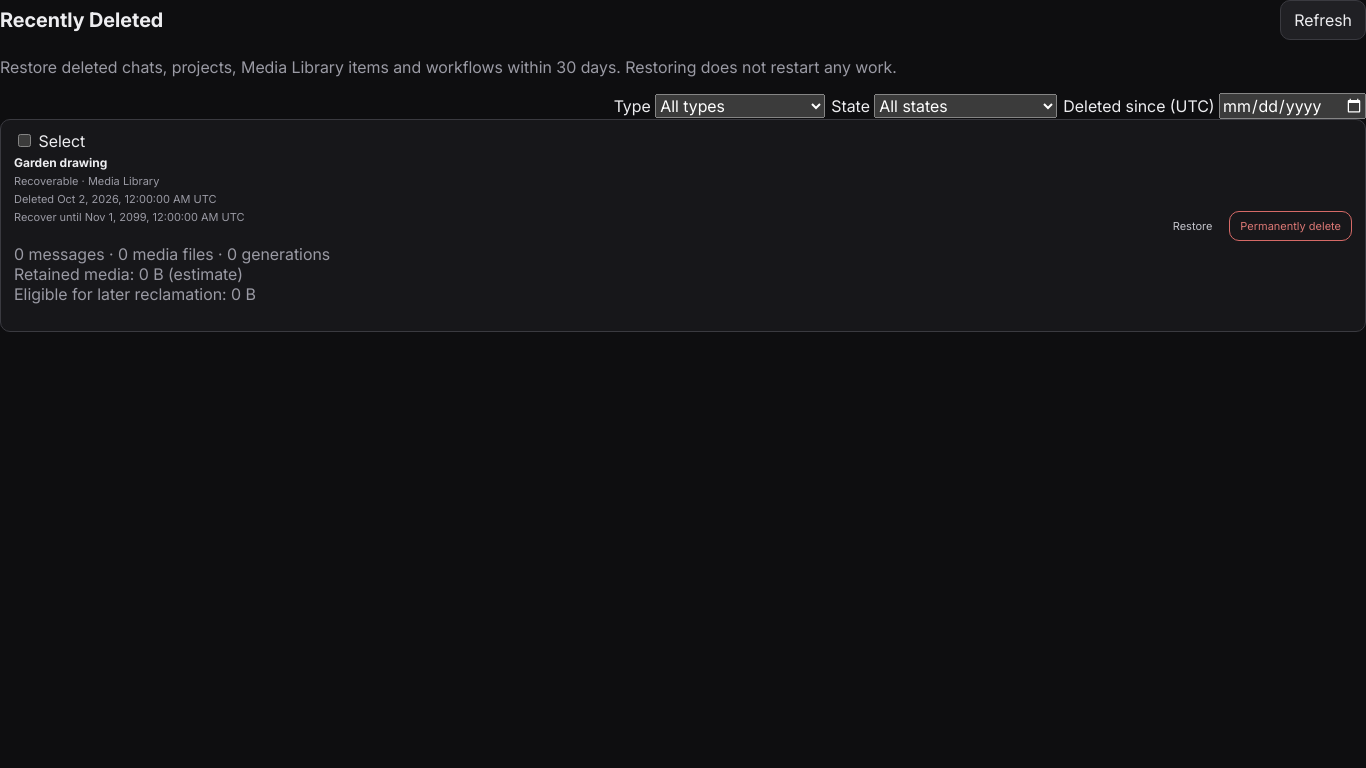
Test: confirms membership removal without promising immediate file deletion
Click the button with aria-label "Permanently delete Garden drawing" at point(1291, 226), box [1229,210,1352,240]
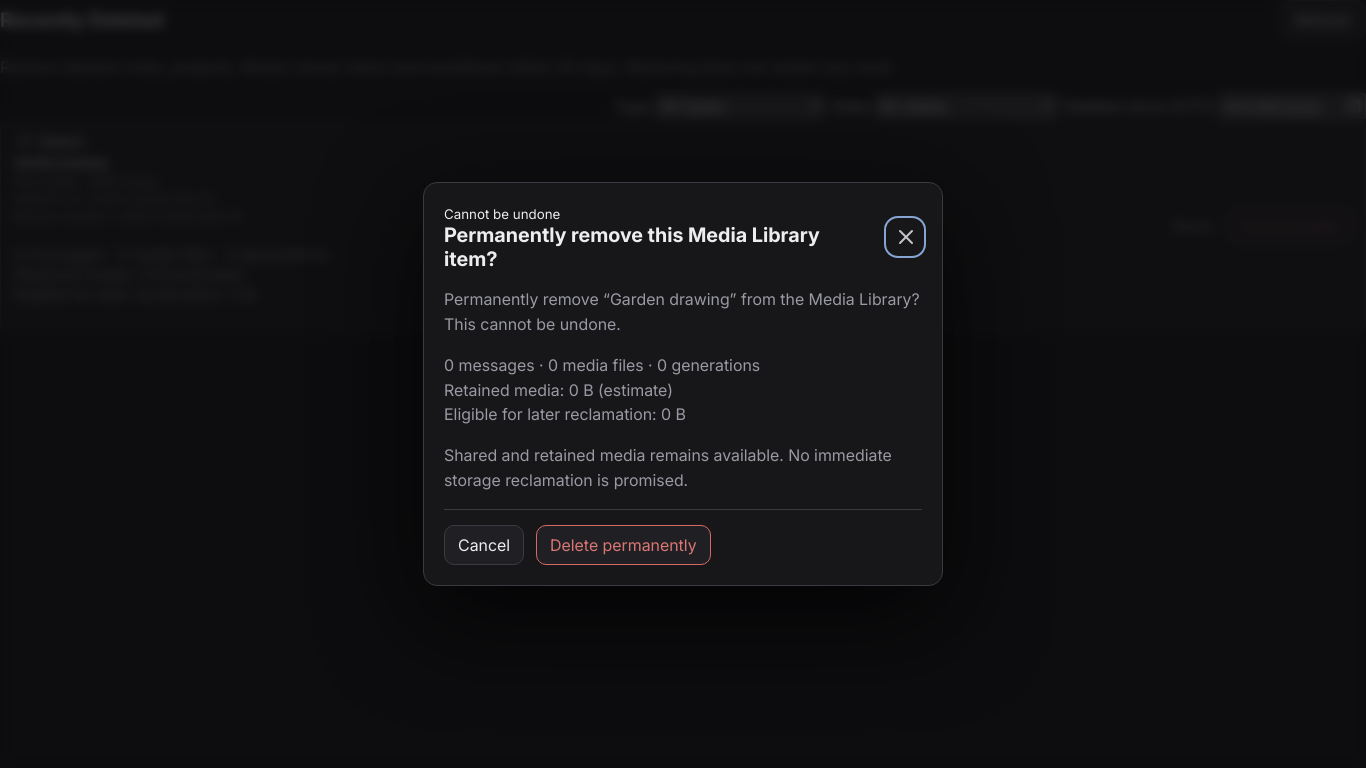
Expected: the heading "Permanently remove this Media Library item?" is shown, [444,223,876,271]
Expected: the text "from the Media Library? This cannot be undone" is shown, [444,289,920,334]
Expected: the text "No immediate storage reclamation is promised" is shown, [444,445,892,490]
Click the button "Delete permanently" at point(623, 545), box [536,525,711,565]
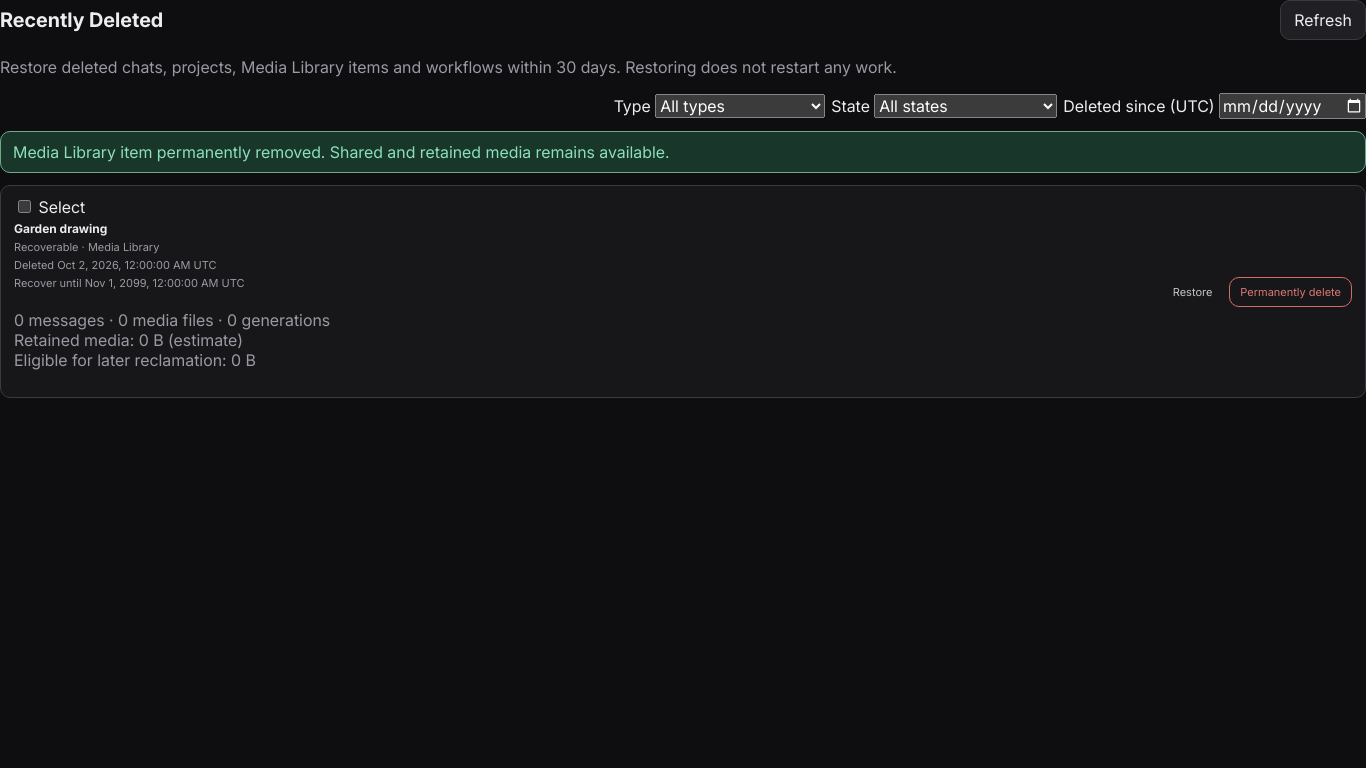
Expected: the text "Media Library item permanently removed. Shared and retained media remains available." is shown, [13,142,670,162]
